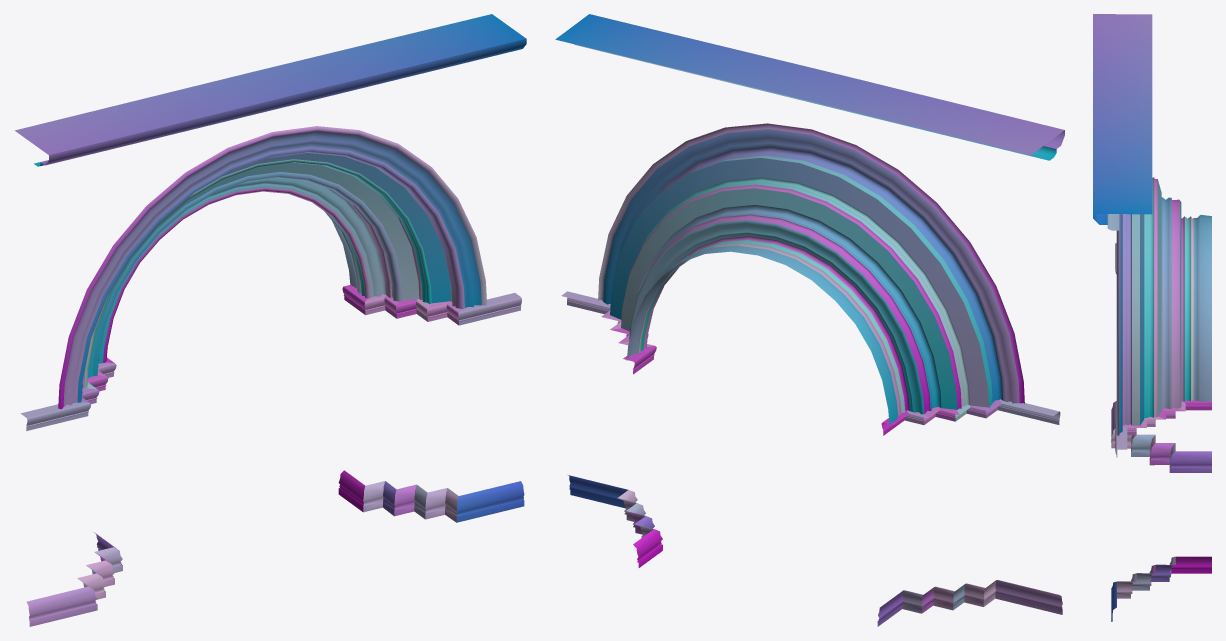
The picture shows the model from 3 angles, left to right: view 1: azimuth 30°, elevation 25°; view 2: azimuth 150°, elevation 25°; view 3: azimuth 270°, elevation 25°; orthographic projection. The views are drawn at different scales.
Visible parts, largest first — view 1: SM_PortalDoorA01_LOD0; view 2: SM_PortalDoorA01_LOD0; view 3: SM_PortalDoorA01_LOD0.
Boxes of the visible parts, x1,y1,x2,y2 form: SM_PortalDoorA01_LOD0: [15, 14, 526, 626]; SM_PortalDoorA01_LOD0: [555, 14, 1064, 626]; SM_PortalDoorA01_LOD0: [1093, 14, 1211, 621].
Bounding box in the file's own units: 7.58 × 7 × 1.84.
